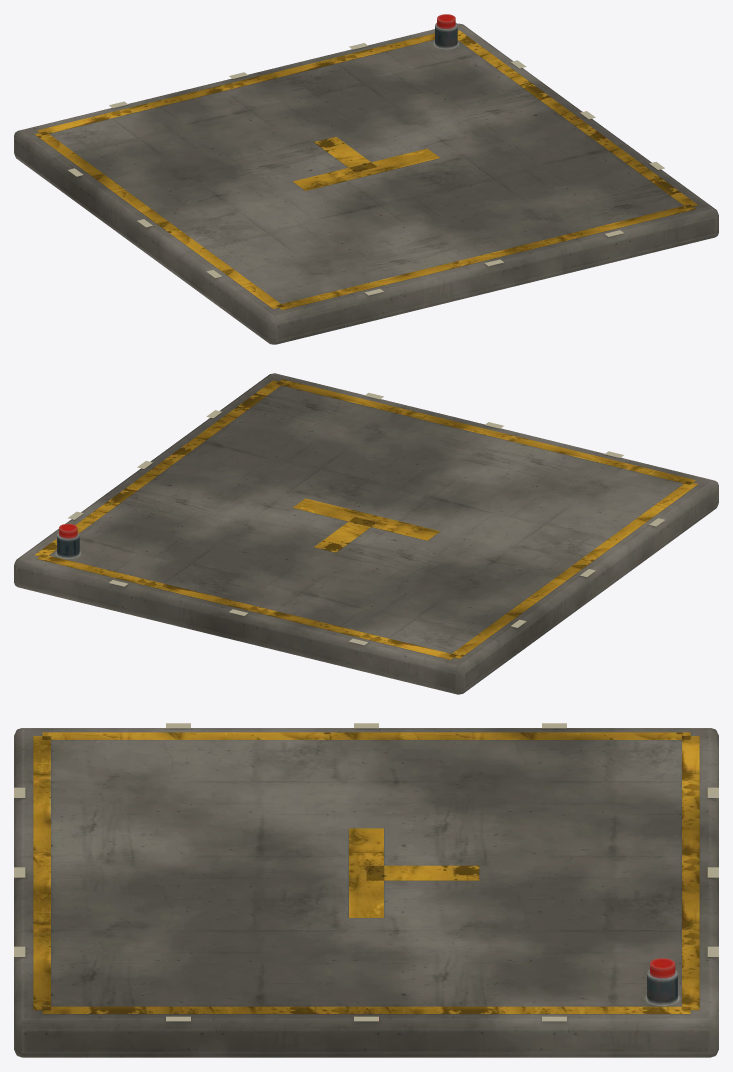
Rendered from hull_dock.glb.
3 views of the same model, one above another, from view 1: azimuth 30°, elevation 25°; view 2: azimuth 150°, elevation 25°; view 3: azimuth 270°, elevation 25° (orthographic). The views are drawn at different scales.
Visible parts, largest first — view 1: te_hull_dock; view 2: te_hull_dock; view 3: te_hull_dock.
Part boxes in pixels (x1,y1,x2,y2): te_hull_dock: (14, 14, 718, 344); te_hull_dock: (14, 373, 718, 694); te_hull_dock: (14, 723, 718, 1057).
Bounding box in the file's own units: 1 × 0.115 × 1.
Materials: 1 (1 with a texture image).
